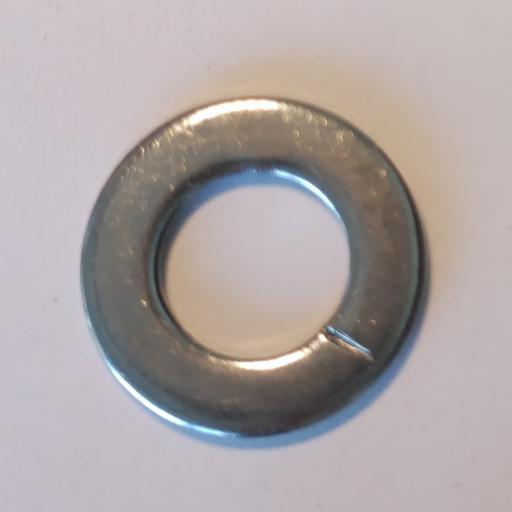scratch: (323, 325, 375, 361)
